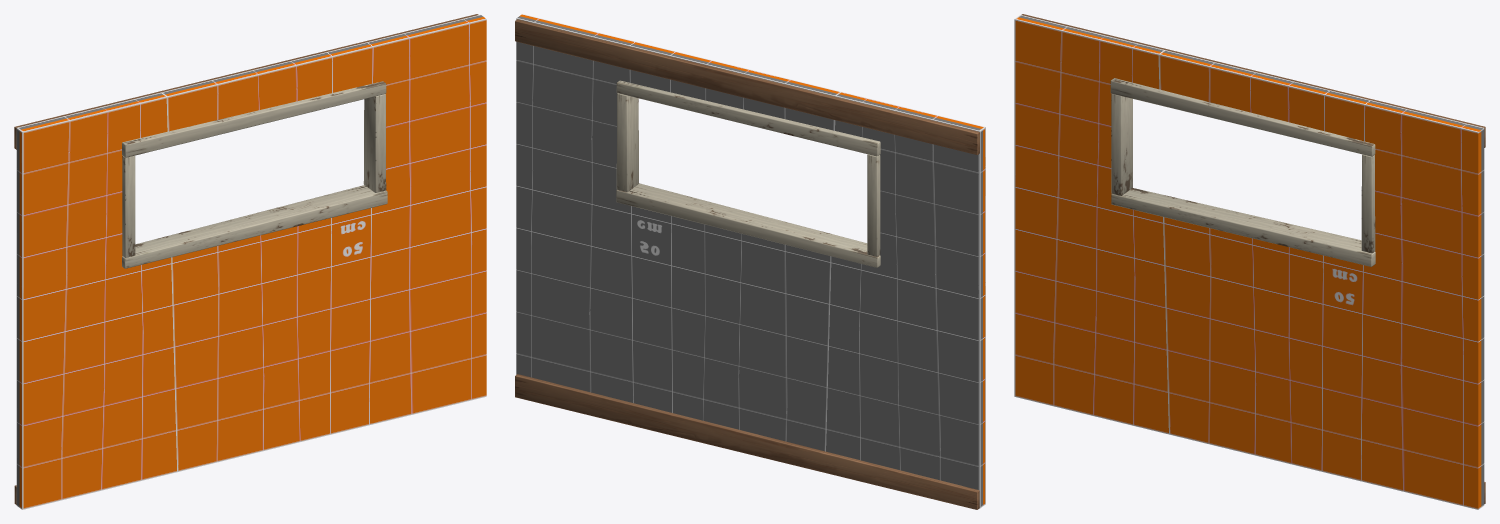
Rendered from Hangar01WW_5.FBX.
3 views of the same model, side by side, from view 1: azimuth 30°, elevation 25°; view 2: azimuth 150°, elevation 25°; view 3: azimuth 330°, elevation 25° (orthographic).
Parts seen in each view (by area): view 1: Hangar01WW_5; view 2: Hangar01WW_5; view 3: Hangar01WW_5.
Part boxes in pixels (<box>): Hangar01WW_5: <box>14,14,486,509</box>; Hangar01WW_5: <box>515,14,985,509</box>; Hangar01WW_5: <box>1014,14,1485,509</box>.
Size of what is drawn, in the model's own units: 4.5 by 3.5 by 0.2192.
